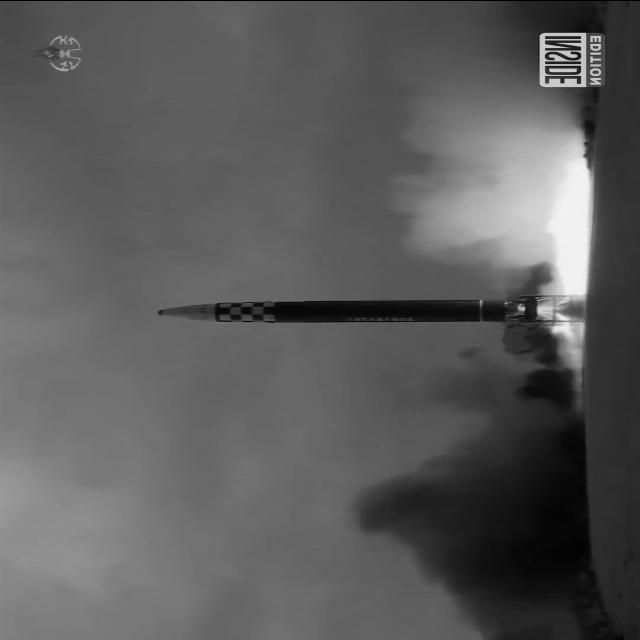Missile: (144, 295, 532, 327)
